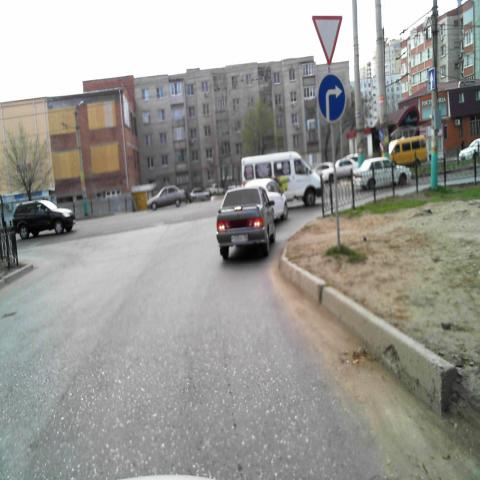4_1_2: (316, 70, 346, 125)
